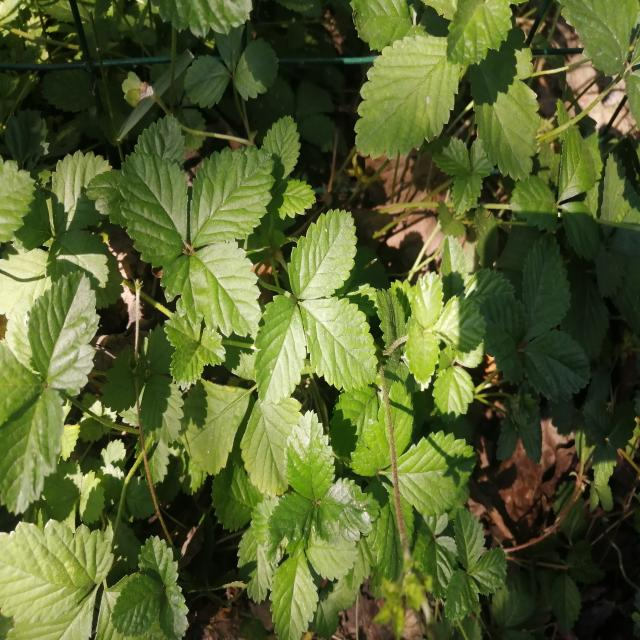Mock_strawberry: (255, 403, 394, 625), (140, 128, 269, 360), (254, 207, 386, 413)
